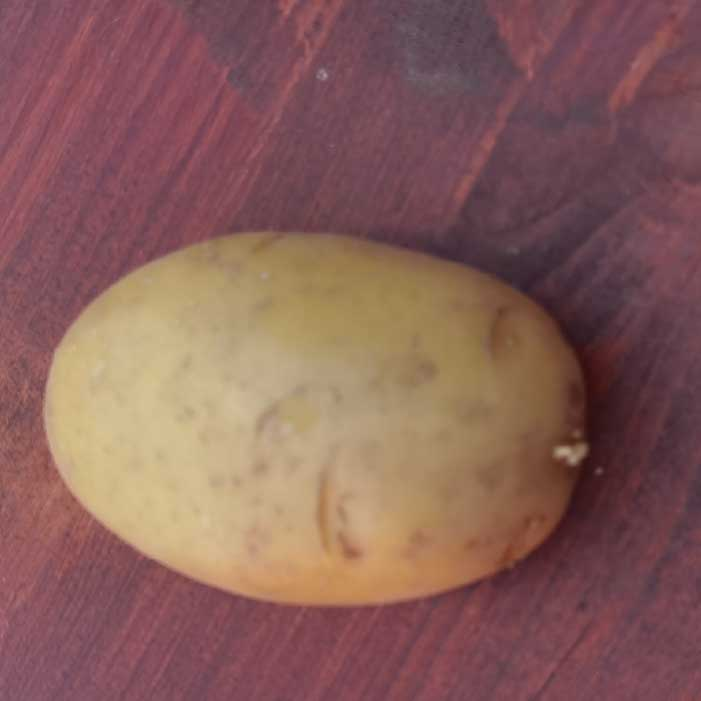Kartoffel: (44, 233, 587, 605)
